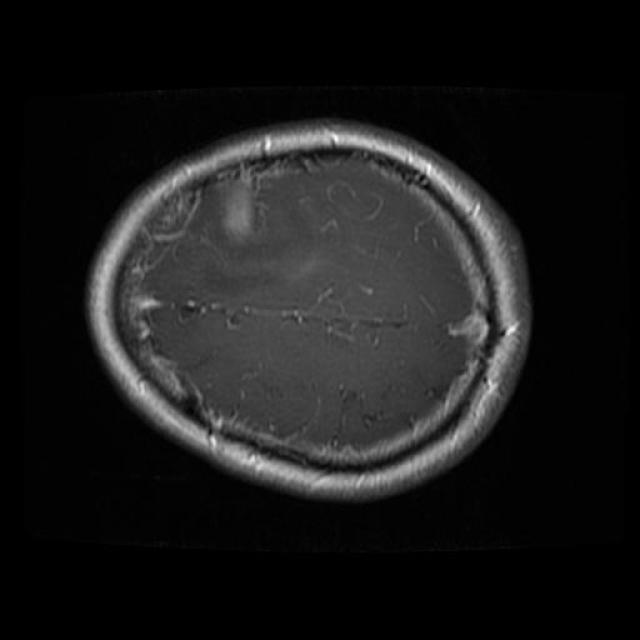Glioma: (221, 180, 255, 243)
